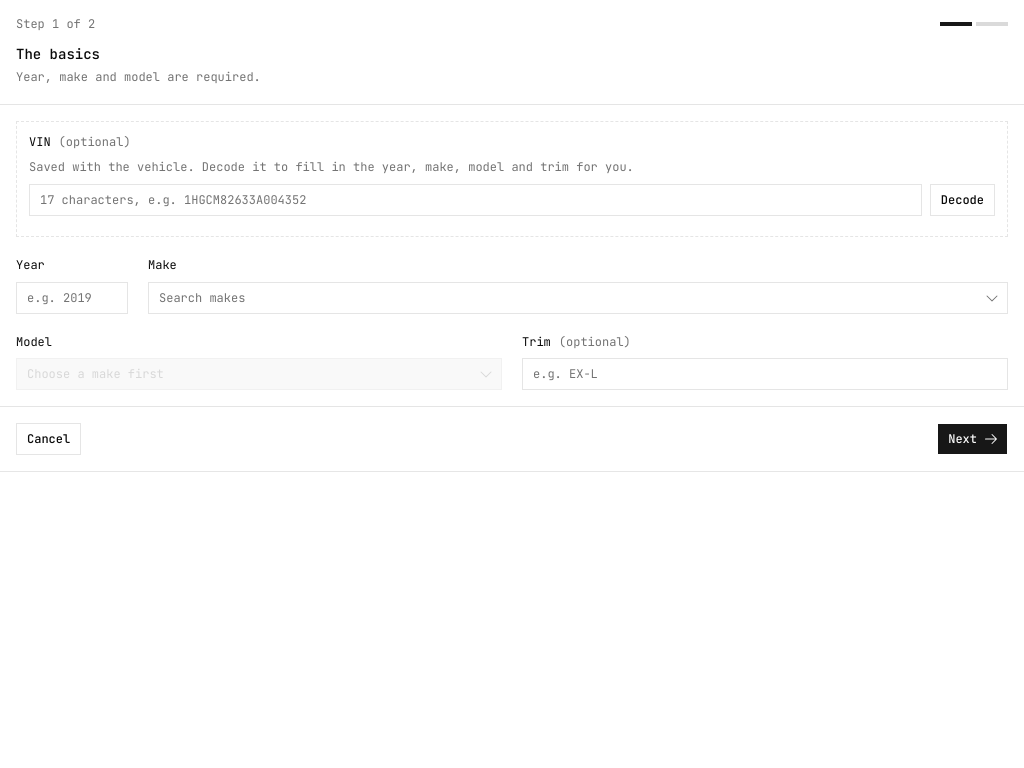
Scenario: VehicleForm wizard › clears a field's error as soon as it is edited
Click the button "Next" at (973, 439), box [937,423,1008,455]
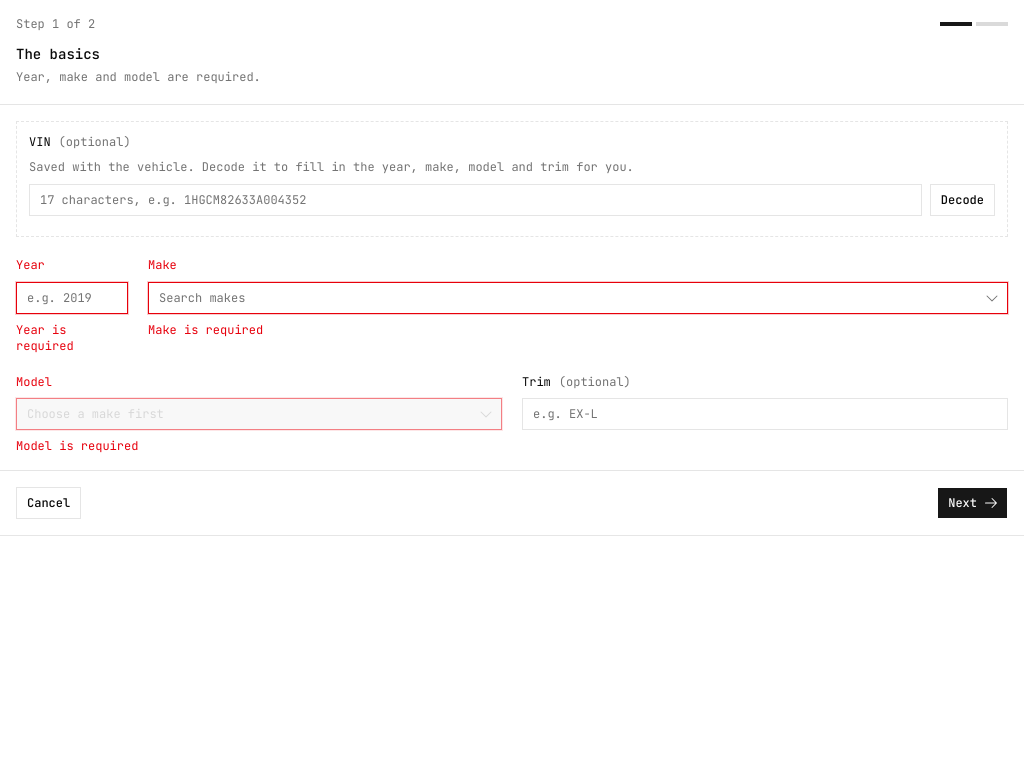
Type "1" into the field labelled "Year" at (72, 298), box [16,282,128,314]
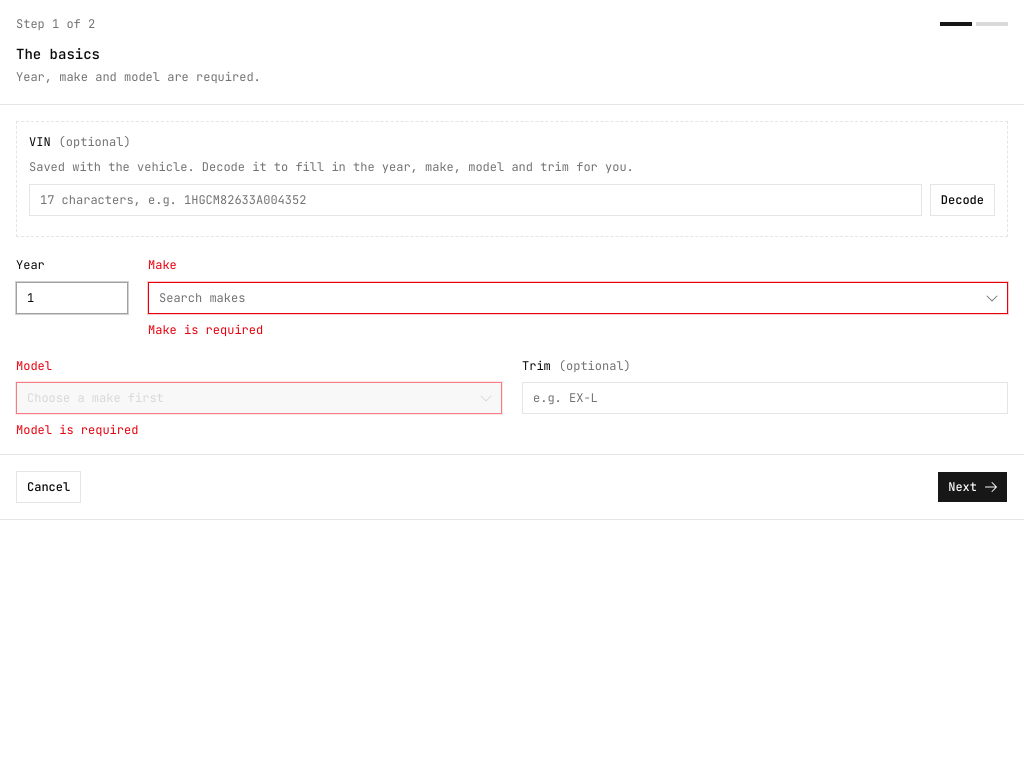
expect the text "Make is required" is shown: met, box [148,322,263,338]
expect the text "Year is required" is gone: met
